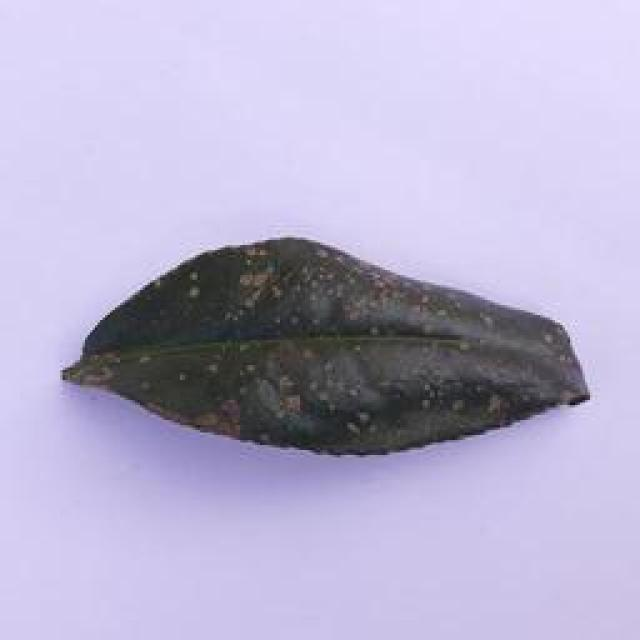Algal Leaf Spot: (56, 235, 596, 458)
